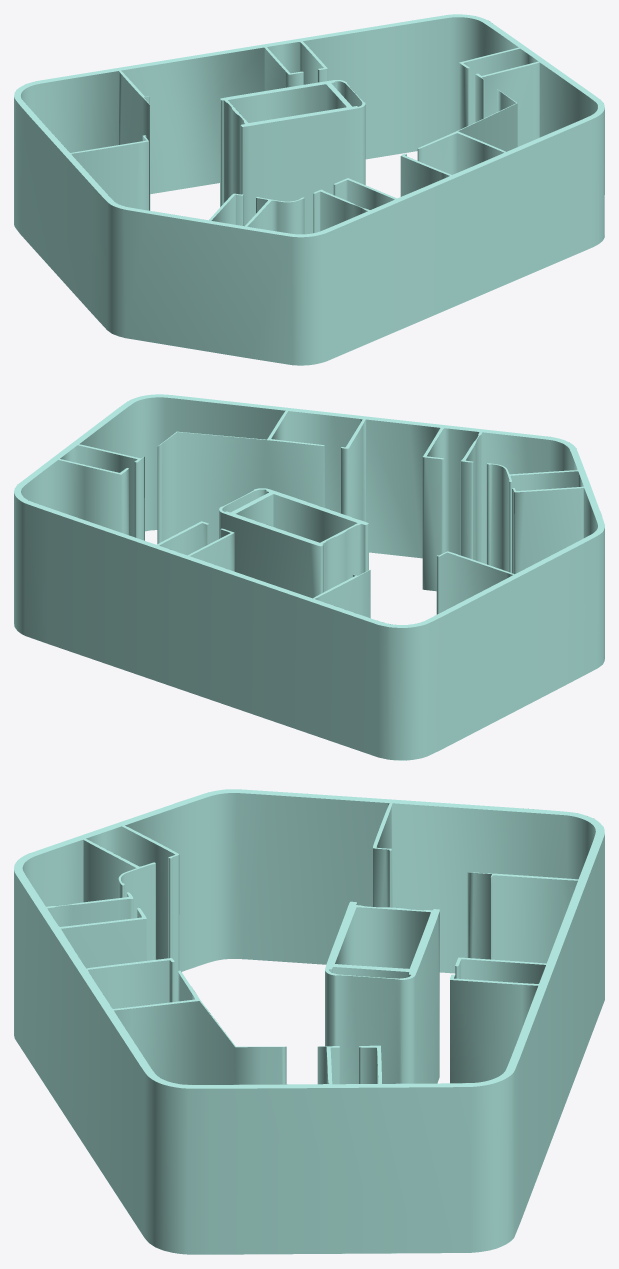
3 views of the same model, one above another, from view 1: azimuth 30°, elevation 25°; view 2: azimuth 150°, elevation 25°; view 3: azimuth 270°, elevation 25° (orthographic). The views are drawn at different scales.
Parts seen in each view (by area): view 1: path22; view 2: path22; view 3: path22.
Part boxes in pixels (x1,y1,x2,y2): path22: [14, 14, 604, 365]; path22: [14, 394, 604, 760]; path22: [14, 789, 604, 1254].
Bounding box in the file's own units: 23.23 × 6 × 19.37.
